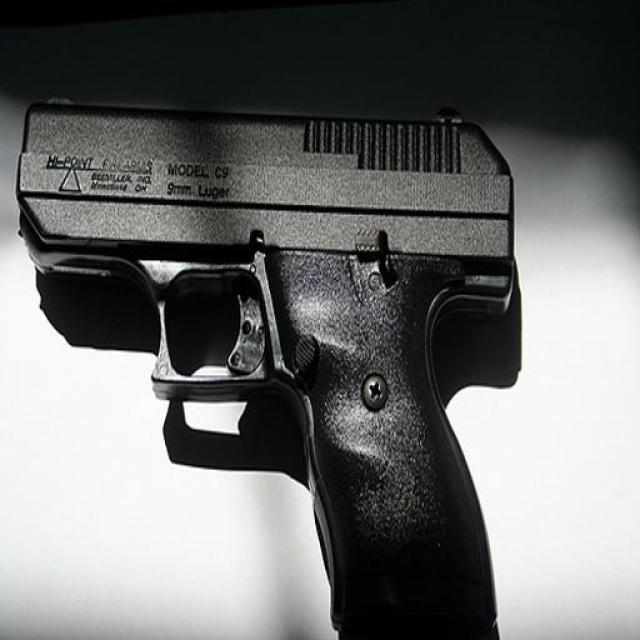pistol: (15, 95, 520, 634)
